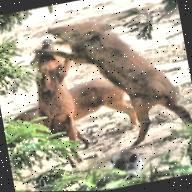boar: (17, 16, 120, 164)
